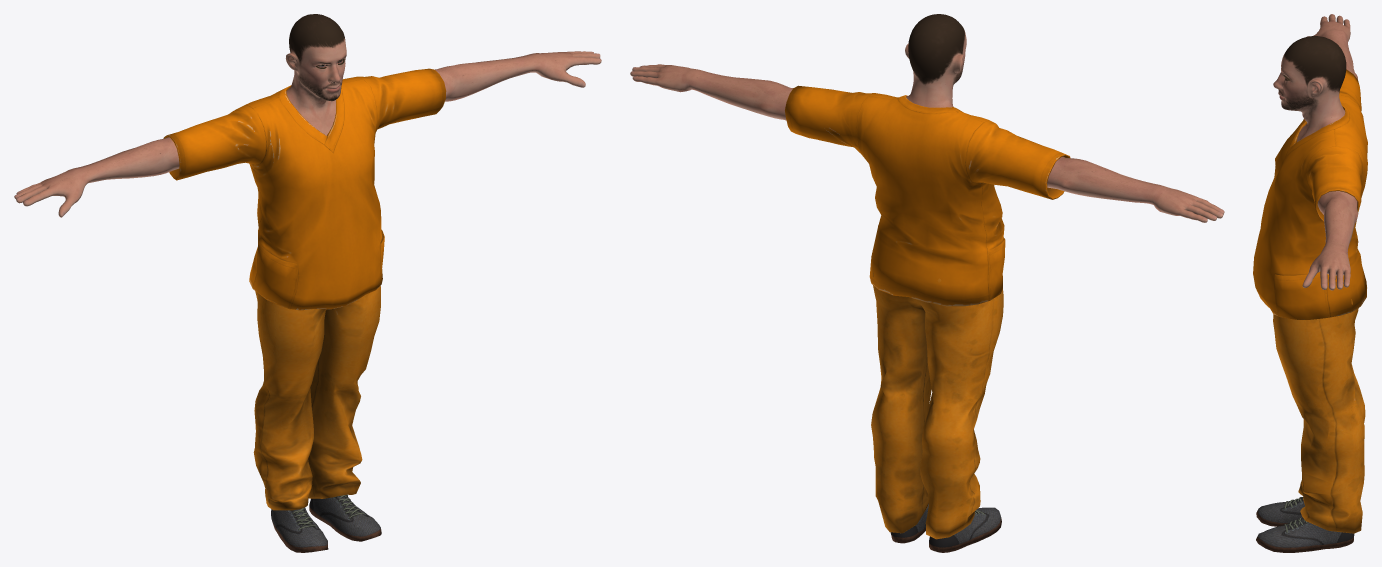
The model's file is preso.glb.
3 renders of one model, left to right at view 1: azimuth 30°, elevation 25°; view 2: azimuth 150°, elevation 25°; view 3: azimuth 270°, elevation 25°, orthographic. The views are drawn at different scales.
Visible parts, largest first — view 1: Object_3, Object_2; view 2: Object_3, Object_2; view 3: Object_3, Object_2.
Boxes of the visible parts, x1,y1,x2,y2 form: Object_3: [163, 68, 446, 552]; Object_2: [14, 14, 601, 217]; Object_3: [785, 85, 1070, 552]; Object_2: [630, 14, 1224, 222]; Object_3: [1253, 69, 1367, 552]; Object_2: [1273, 14, 1358, 290].
Bounding box in the file's own units: 213 × 178 × 37.54.
Materials: 2 (2 with a texture image).
